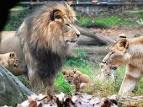lion: (1, 2, 85, 105), (105, 35, 143, 100)
